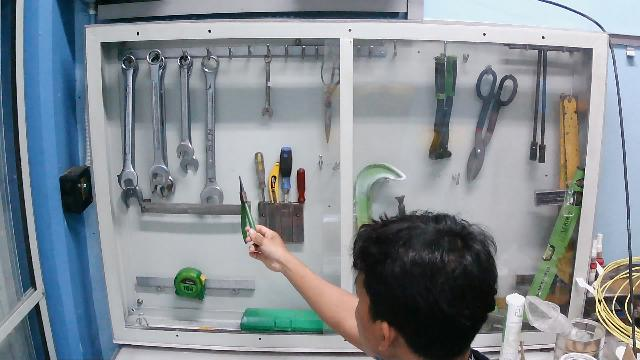tang_cucut_lancip_2: (233, 172, 259, 251)
